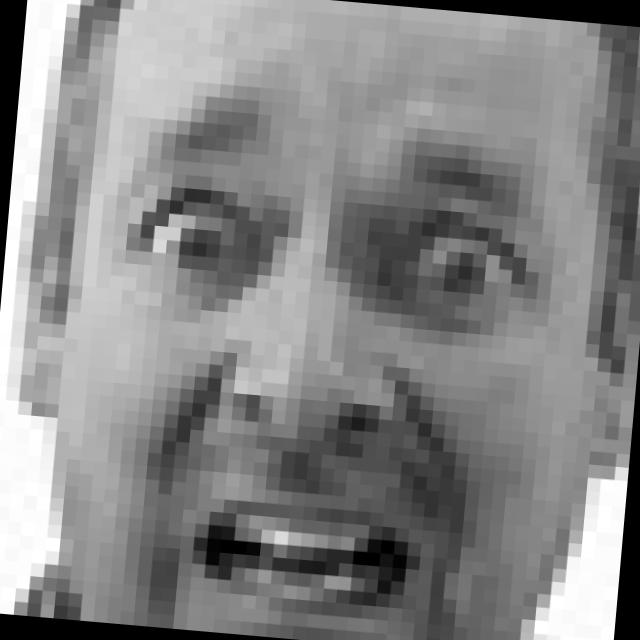fear: (73, 74, 559, 640)
